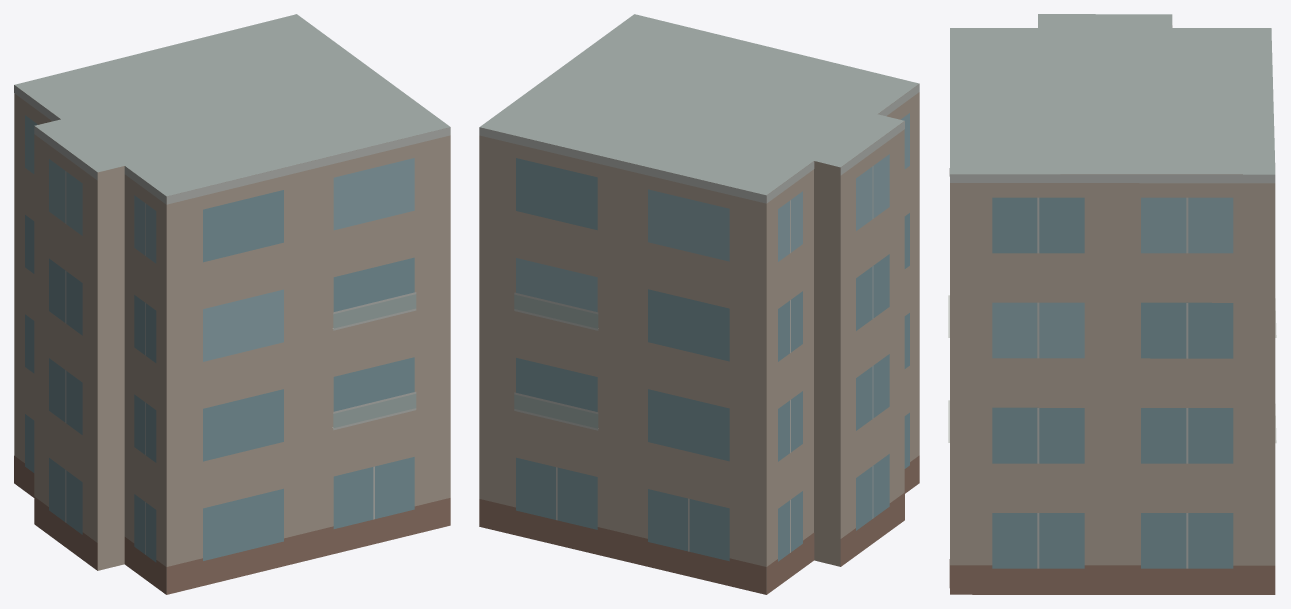
Rendered from survey-upis-32900500.glb.
3 renders of one model, left to right at view 1: azimuth 30°, elevation 25°; view 2: azimuth 150°, elevation 25°; view 3: azimuth 270°, elevation 25°, orthographic. The views are drawn at different scales.
Visible parts, largest first — view 1: survey-upis-32900500.tmp; view 2: survey-upis-32900500.tmp; view 3: survey-upis-32900500.tmp.
Boxes of the visible parts, bbox=[...] form: survey-upis-32900500.tmp: bbox=[14, 14, 450, 594]; survey-upis-32900500.tmp: bbox=[479, 14, 919, 594]; survey-upis-32900500.tmp: bbox=[948, 14, 1276, 594].
Bounding box in the file's own units: 9.59 × 11.7 × 8.28.
